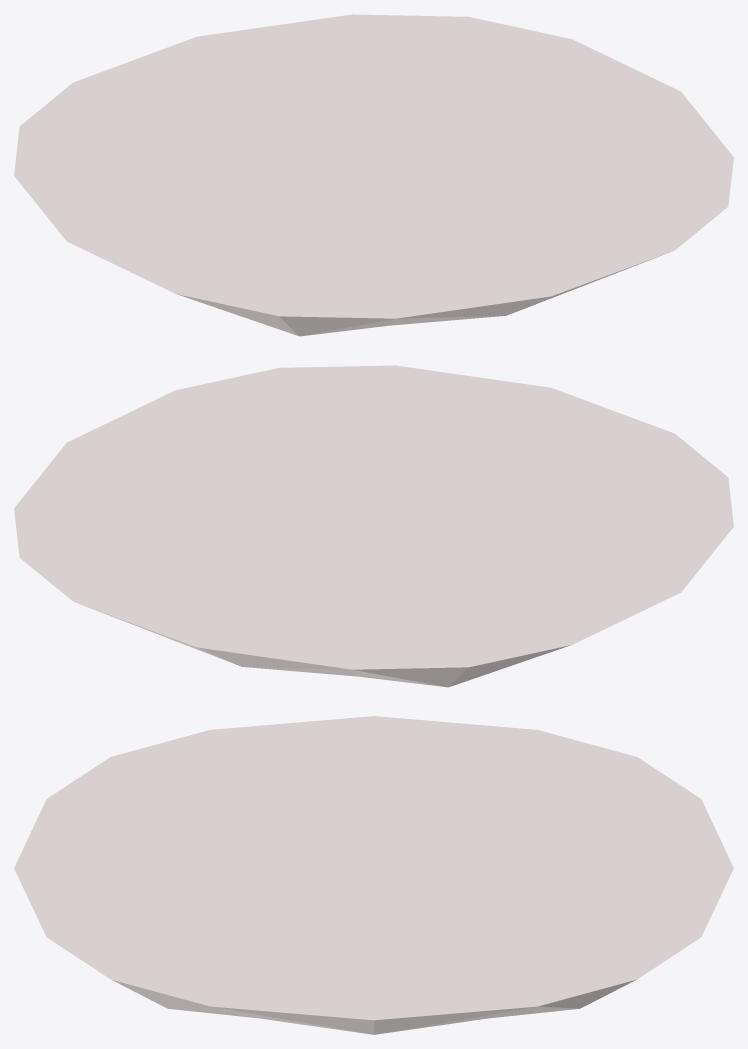
The model's file is dish.obj.
3 views of the same model, one above another, from view 1: azimuth 30°, elevation 25°; view 2: azimuth 150°, elevation 25°; view 3: azimuth 270°, elevation 25° (orthographic).
Visible parts, largest first — view 1: Cube; view 2: Cube; view 3: Cube.
Boxes of the visible parts, x1,y1,x2,y2 form: Cube: (14,14,733,336); Cube: (14,365,733,687); Cube: (14,716,733,1034).
Bounding box in the file's own units: 2.2 × 0.18 × 2.2.
